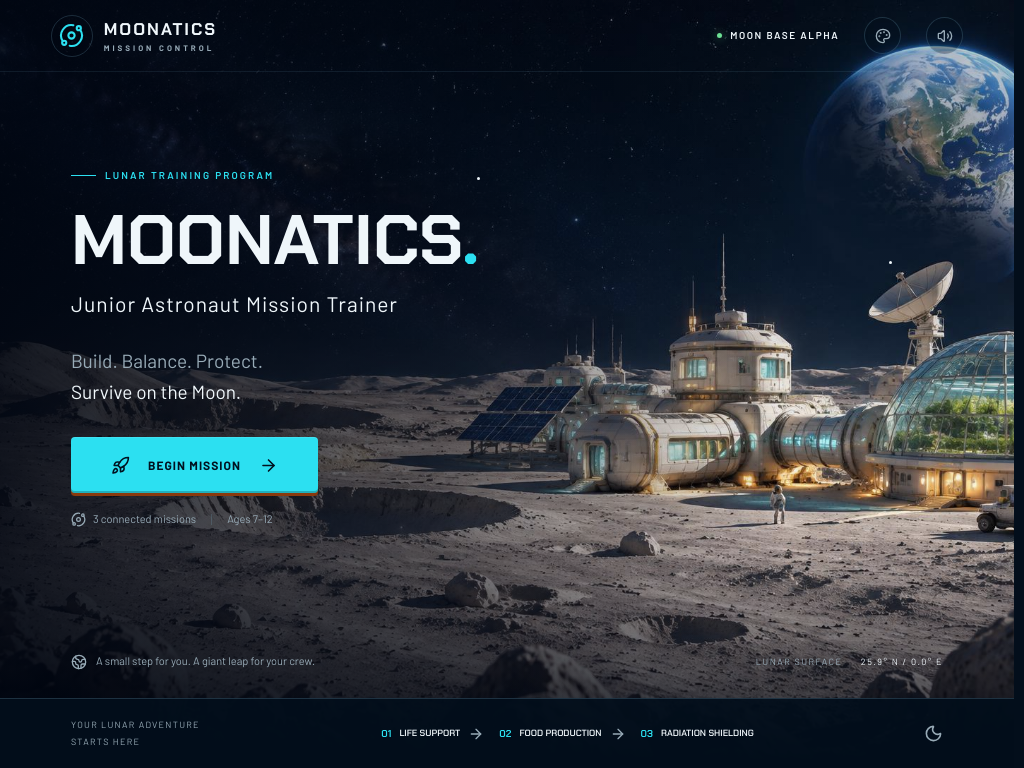
The app › opens on the start screen and moves on to choosing a training mode
The width and height of the screenshot is (1024, 768).
Check: the heading "MOONATICS." is shown, box [71,194,479,286]
Click the button "BEGIN MISSION" at (194,466), box [71,438,318,494]
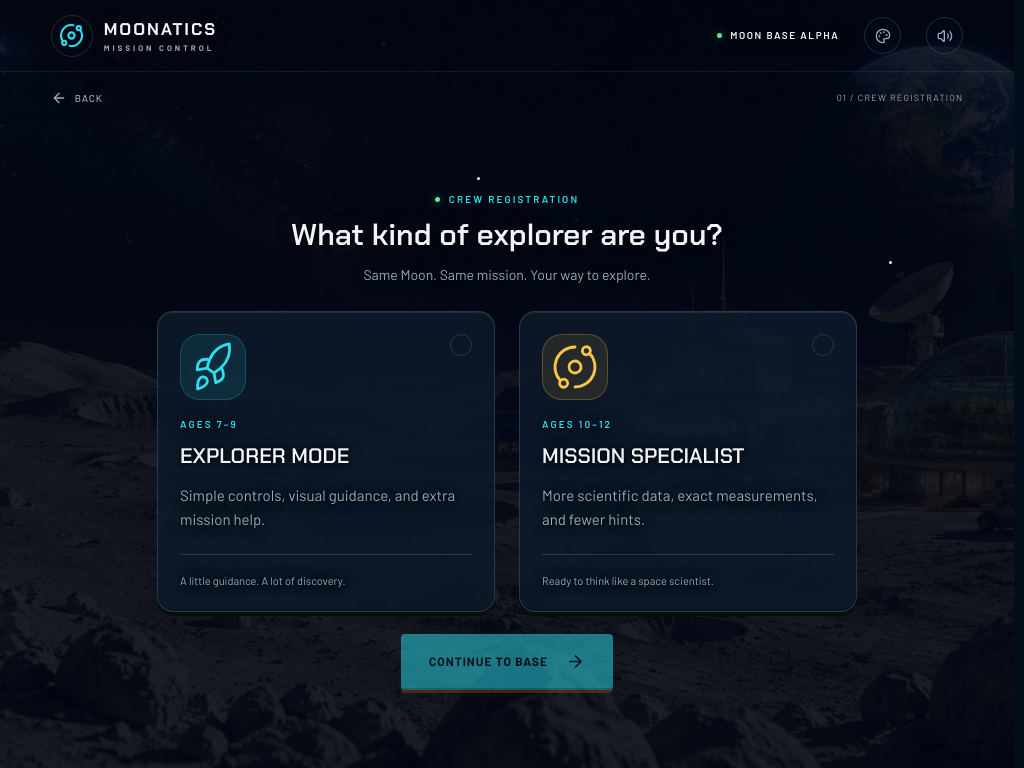
Check: the button "EXPLORER" is shown, box [157,311,495,612]
Check: the button "MISSION SPECIALIST" is shown, box [519,311,857,612]
